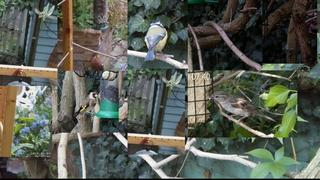blue tit: (144, 20, 168, 61)
goldfinch: (73, 91, 99, 118)
sparrow: (208, 90, 277, 128)
